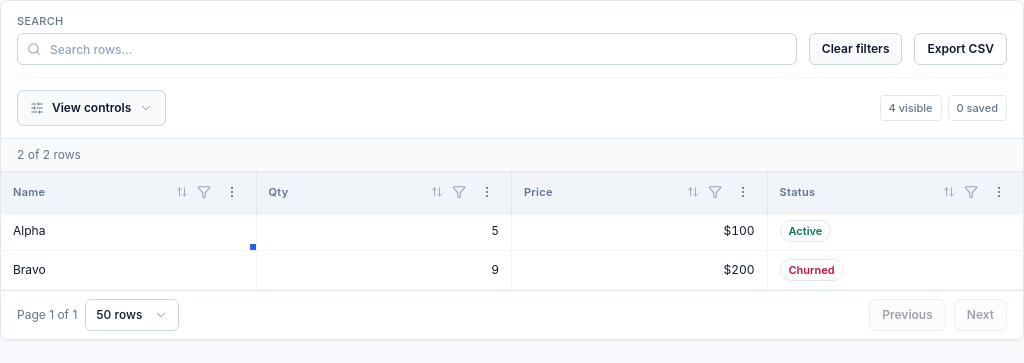
DataGrid cell editing › reverts the edit when the editor blurs with an invalid value
Double-click the text "$100" at (640, 232), box [512,212,768,251]
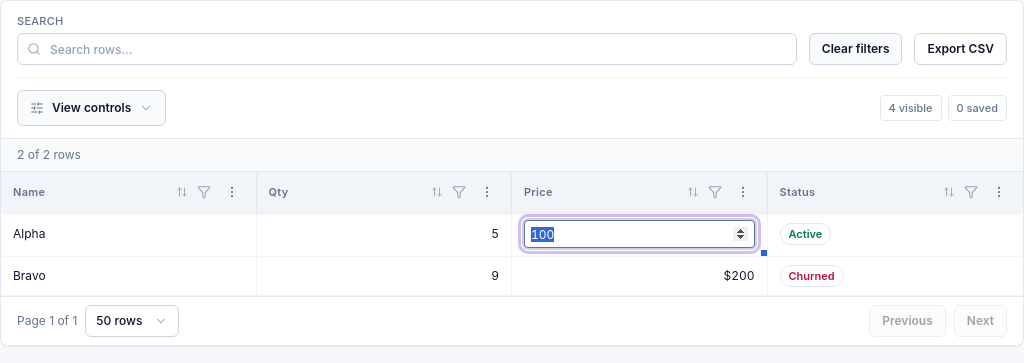
Clearing a numeric input parses to NaN, which the built-in guard rejects.
Clear the number field showing "100" at (639, 234), box [524,220,754,248]
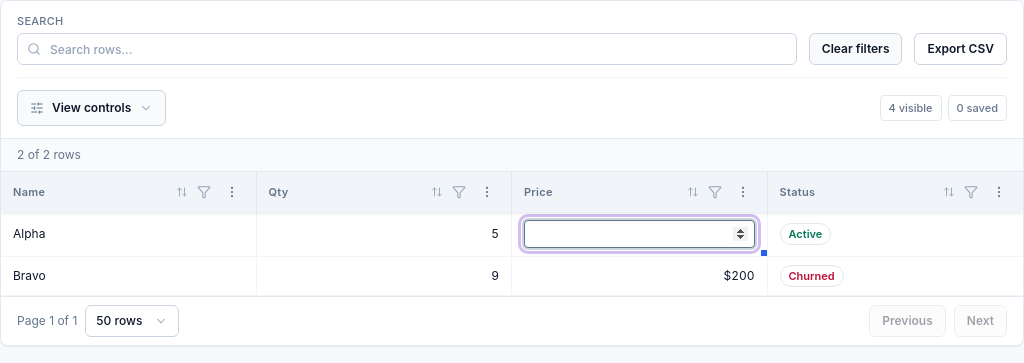
Leave the number field showing "100", box [524,220,754,248]
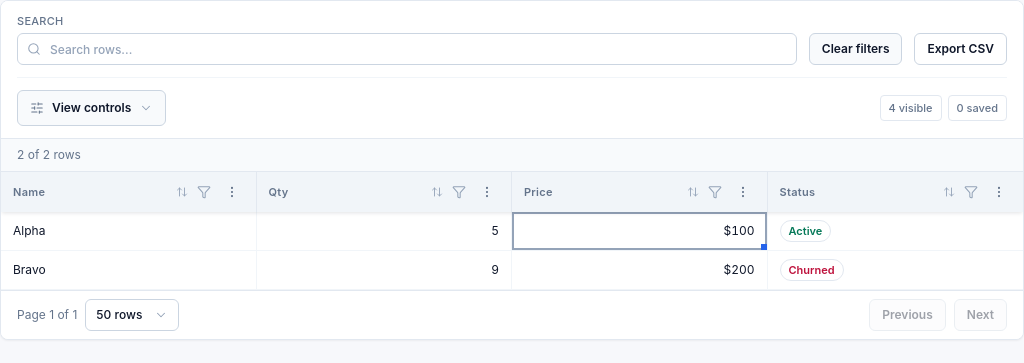
Expected: the text "$100" is shown, [512,212,768,251]
